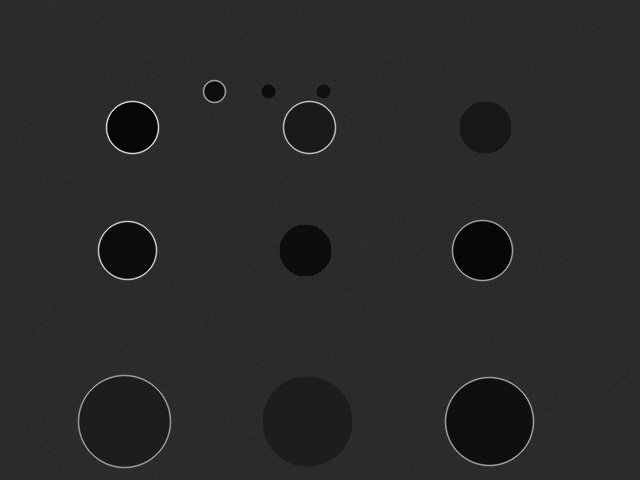hole: (78, 375, 170, 467), (262, 376, 352, 466), (445, 377, 533, 465), (452, 220, 512, 280), (98, 221, 156, 279), (106, 101, 158, 153), (283, 101, 335, 153), (459, 101, 511, 153), (279, 224, 331, 276), (203, 80, 225, 102), (261, 84, 275, 98), (316, 84, 330, 98)
